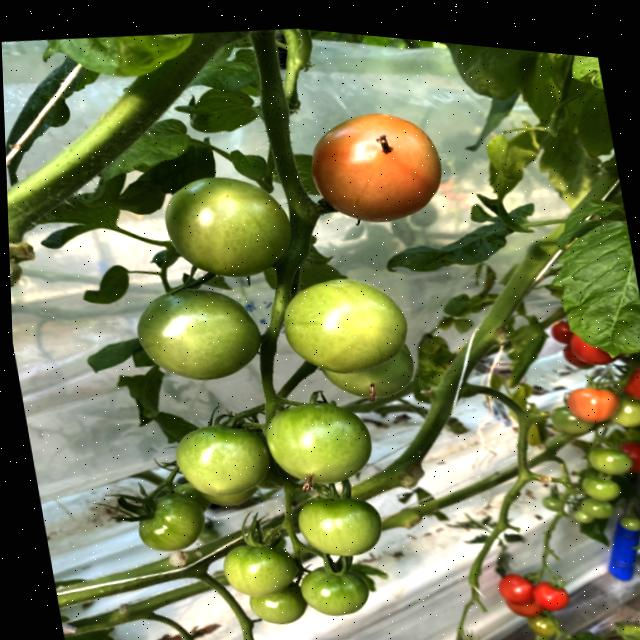ripe0: (157, 174, 297, 279), (276, 276, 413, 375), (130, 286, 267, 385), (263, 400, 381, 489), (172, 422, 277, 498), (296, 496, 388, 557), (219, 541, 301, 596), (134, 493, 210, 551), (300, 570, 374, 618)
ripe1: (303, 112, 453, 226)
